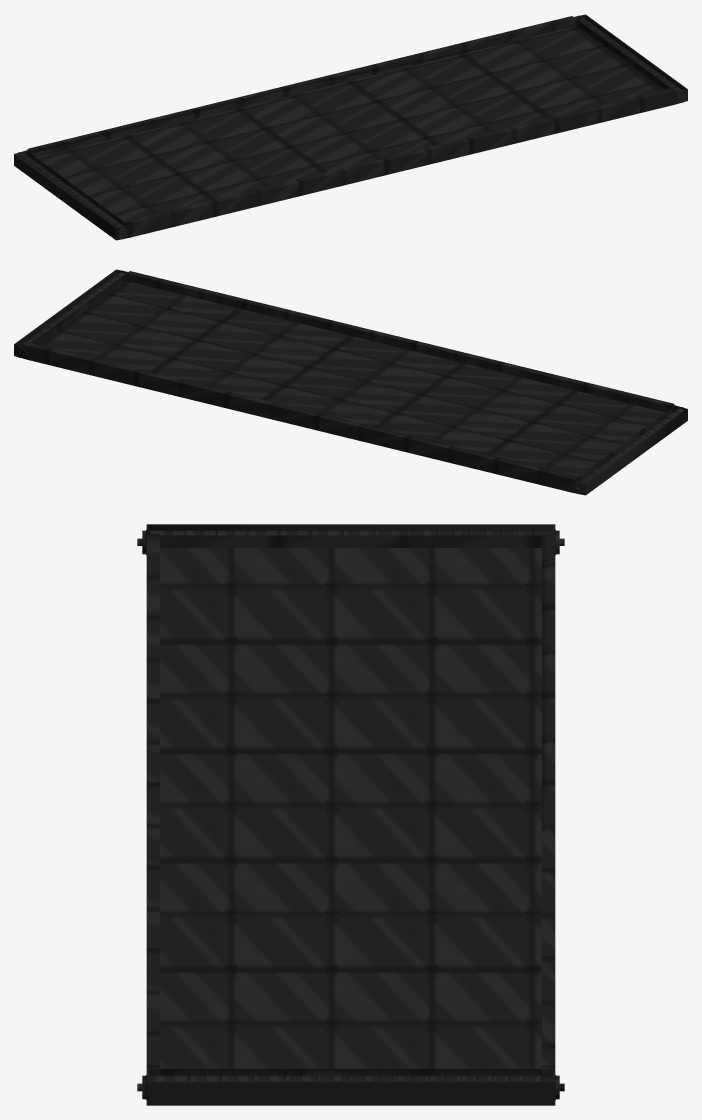
Rendered from Conveyor_Case.fbx.
The picture shows the model from 3 angles, top to bottom: view 1: azimuth 30°, elevation 25°; view 2: azimuth 150°, elevation 25°; view 3: azimuth 270°, elevation 25°; orthographic projection. The views are drawn at different scales.
Parts seen in each view (by area): view 1: Conveyer; view 2: Conveyer; view 3: Conveyer.
Part boxes in pixels (x1,y1,x2,y2): Conveyer: (14,14,687,240); Conveyer: (14,269,687,495); Conveyer: (137,524,564,1105).
Size of the model in its own units: 8762 by 207 by 2836.
